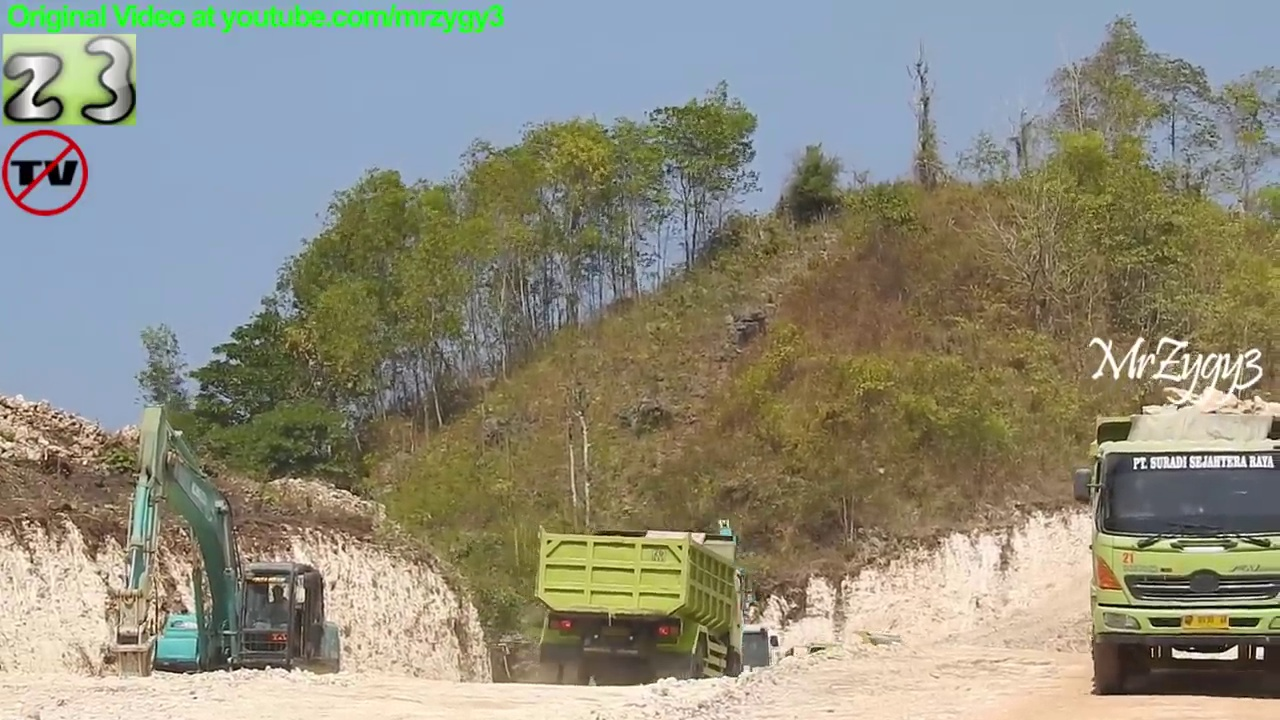excavator: (98, 398, 347, 712), (661, 509, 799, 709)
truck: (527, 519, 748, 696)
